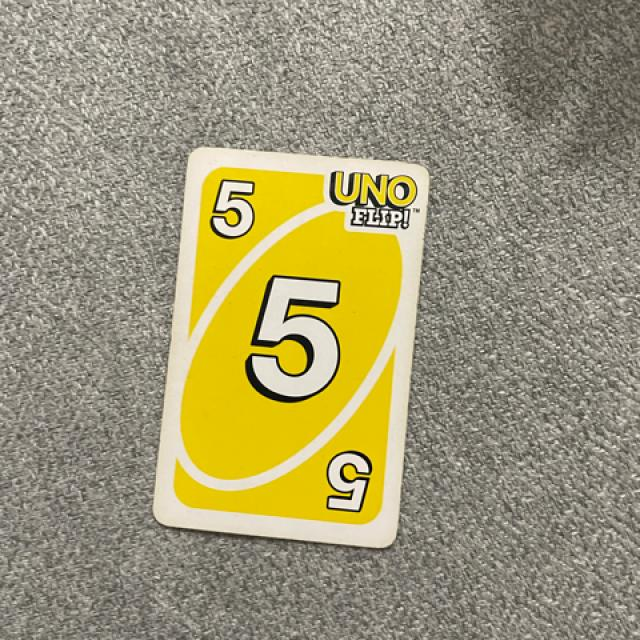lyellow-5: (194, 162, 272, 258)
